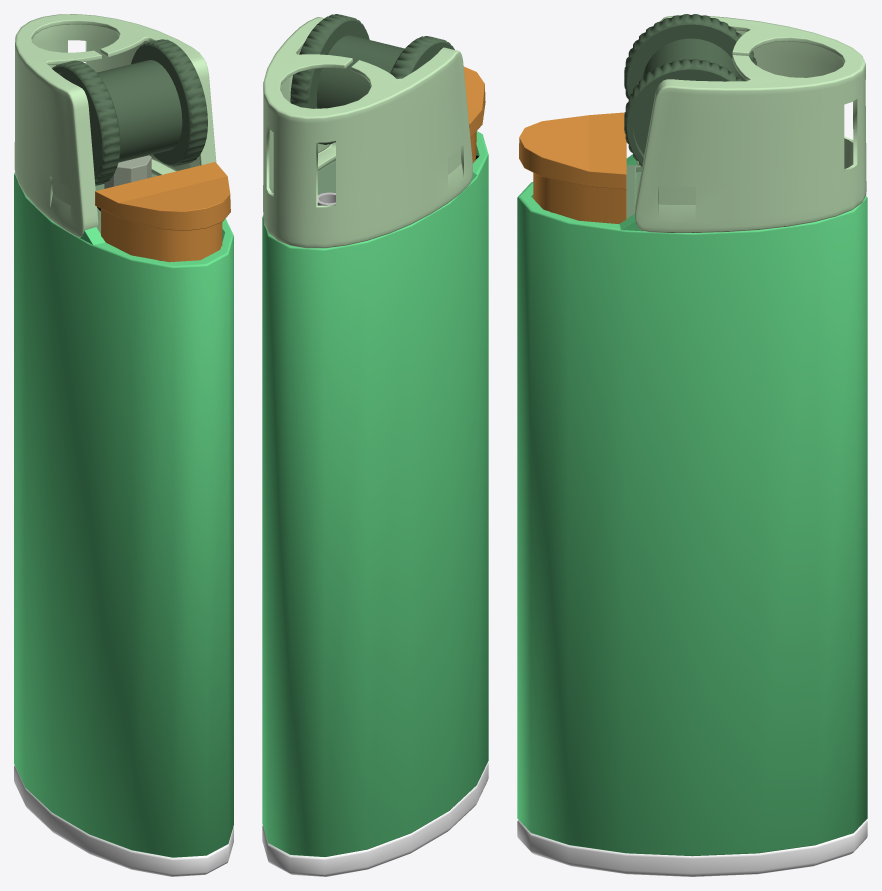
File: encendedor.glb
3 renders of one model, left to right at view 1: azimuth 30°, elevation 25°; view 2: azimuth 150°, elevation 25°; view 3: azimuth 270°, elevation 25°, orthographic. The views are drawn at different scales.
Visible parts, largest first — view 1: Encendedor; view 2: Encendedor; view 3: Encendedor.
Boxes of the visible parts, <box> form: Encendedor: <box>14,14,233,876</box>; Encendedor: <box>262,14,488,876</box>; Encendedor: <box>517,14,867,876</box>.
Size of the model in its own units: 0.0335 by 0.168 by 0.0666.
